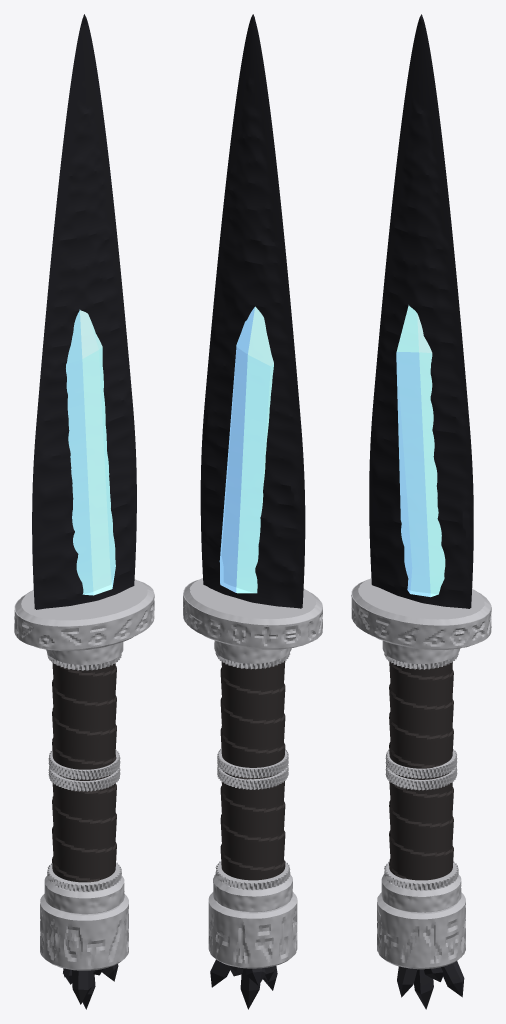
Rendered from dagger_crystal.glb.
The picture shows the model from 3 angles, left to right: view 1: azimuth 30°, elevation 25°; view 2: azimuth 150°, elevation 25°; view 3: azimuth 330°, elevation 25°; orthographic projection.
Visible parts, largest first — view 1: blade, grip, crystal, guard_face, pommel, ferrule_bottom, ferrule_top, bead_bottom, filigree_-35, filigree_-80, black_crystal_1, bead_top; view 2: blade, grip, crystal, guard_face, pommel, ferrule_bottom, ferrule_top, filigree_-35, bead_bottom, filigree_-80, black_crystal_0, bead_top (+1 smaller); view 3: blade, grip, crystal, guard_face, pommel, ferrule_bottom, ferrule_top, bead_bottom, filigree_-35, filigree_-80, black_crystal_4, black_crystal_0 (+2 smaller).
Boxes of the visible parts, x1,y1,x2,y2 form: blade: (32,14,136,609); grip: (52,662,116,882); crystal: (66,309,115,595); guard_face: (14,579,154,651); pommel: (40,894,128,970); ferrule_bottom: (44,875,124,914); ferrule_top: (46,642,123,665); bead_bottom: (47,862,121,891); filigree_-35: (48,749,120,779); filigree_-80: (48,767,120,791); black_crystal_1: (72,970,93,1004); bead_top: (47,653,121,670); blade: (200,14,305,608); grip: (220,661,285,880); crystal: (219,306,273,593); guard_face: (183,578,322,649); pommel: (208,892,297,968); ferrule_bottom: (213,874,292,912); ferrule_top: (214,640,291,663); filigree_-35: (217,748,288,778); bead_bottom: (215,861,290,890); filigree_-80: (217,765,288,789); black_crystal_0: (240,968,260,1009); bead_top: (215,652,290,669); blade: (369,14,473,608); grip: (389,661,453,880); crystal: (396,305,445,597); guard_face: (351,578,491,649); pommel: (377,892,465,969); ferrule_bottom: (381,874,461,912); ferrule_top: (382,640,460,664); bead_bottom: (384,861,458,890); filigree_-35: (385,749,457,778); filigree_-80: (385,765,457,790); black_crystal_4: (441,961,464,997); black_crystal_0: (414,969,433,1009).
Bounding box in the file's own units: 0.053 × 0.39 × 0.0382.
